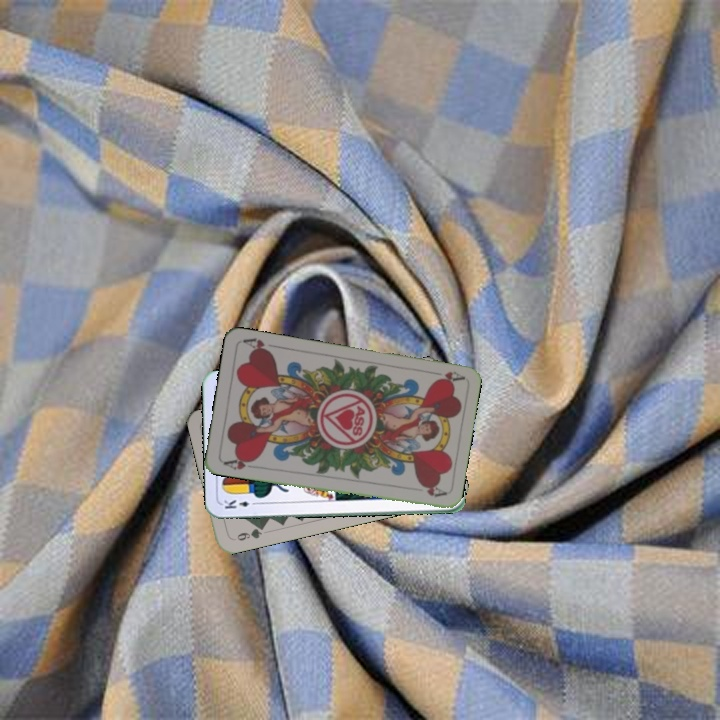EK: (220, 495, 260, 511)
G9: (229, 522, 267, 543)
HA: (220, 453, 259, 473), (425, 367, 465, 386)
